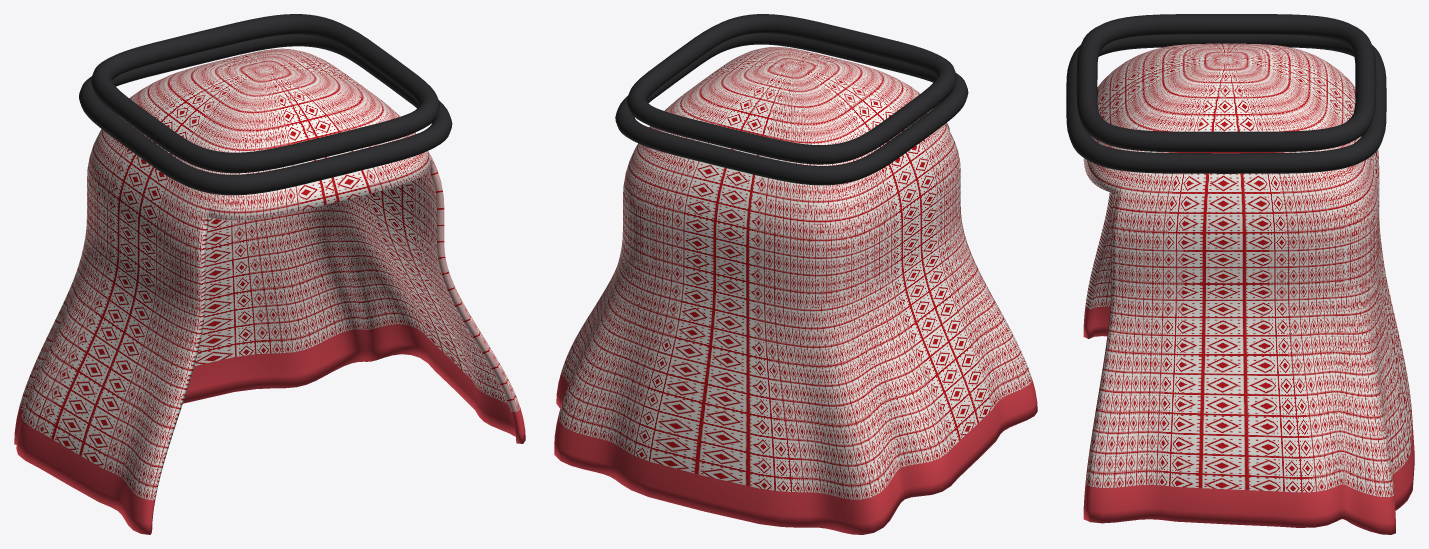
Rendered from Keffiyeh.glb.
The picture shows the model from 3 angles, left to right: view 1: azimuth 30°, elevation 25°; view 2: azimuth 150°, elevation 25°; view 3: azimuth 270°, elevation 25°; orthographic projection. The views are drawn at different scales.
Visible parts, largest first — view 1: Keffiyeh, Keffiyeh_Agal; view 2: Keffiyeh, Keffiyeh_Agal; view 3: Keffiyeh, Keffiyeh_Agal.
Boxes of the visible parts, <box> form: Keffiyeh: <box>14,48,525,534</box>; Keffiyeh_Agal: <box>79,14,452,195</box>; Keffiyeh: <box>554,47,1037,534</box>; Keffiyeh_Agal: <box>615,14,968,185</box>; Keffiyeh: <box>1083,43,1414,534</box>; Keffiyeh_Agal: <box>1066,14,1386,173</box>.
Bounding box in the file's own units: 2.27 × 2.13 × 1.67.
Materials: 3 (1 with a texture image).
